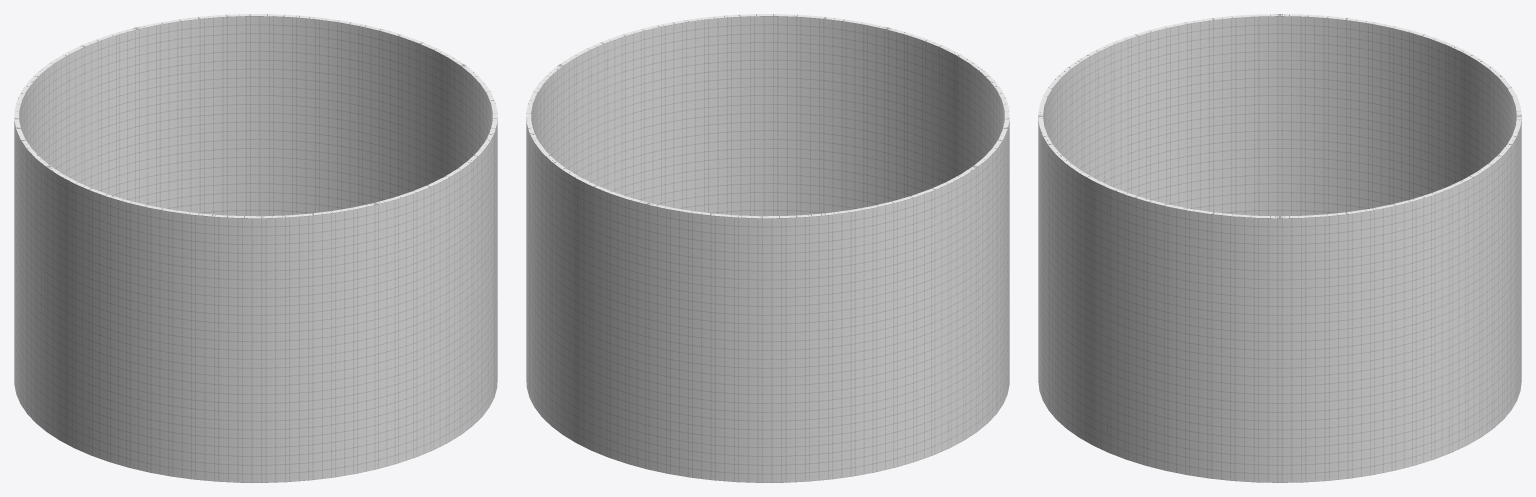
File: outer.fbx
The picture shows the model from 3 angles, left to right: view 1: azimuth 30°, elevation 25°; view 2: azimuth 150°, elevation 25°; view 3: azimuth 270°, elevation 25°; orthographic projection.
Visible parts, largest first — view 1: polySurface2; view 2: polySurface2; view 3: polySurface2.
Part boxes in pixels (x1,y1,x2,y2): polySurface2: (14,14,497,482); polySurface2: (526,14,1009,482); polySurface2: (1038,14,1521,482).
Bounding box in the file's own units: 60.77 × 36.7 × 60.77.
Materials: 1 (1 with a texture image).
